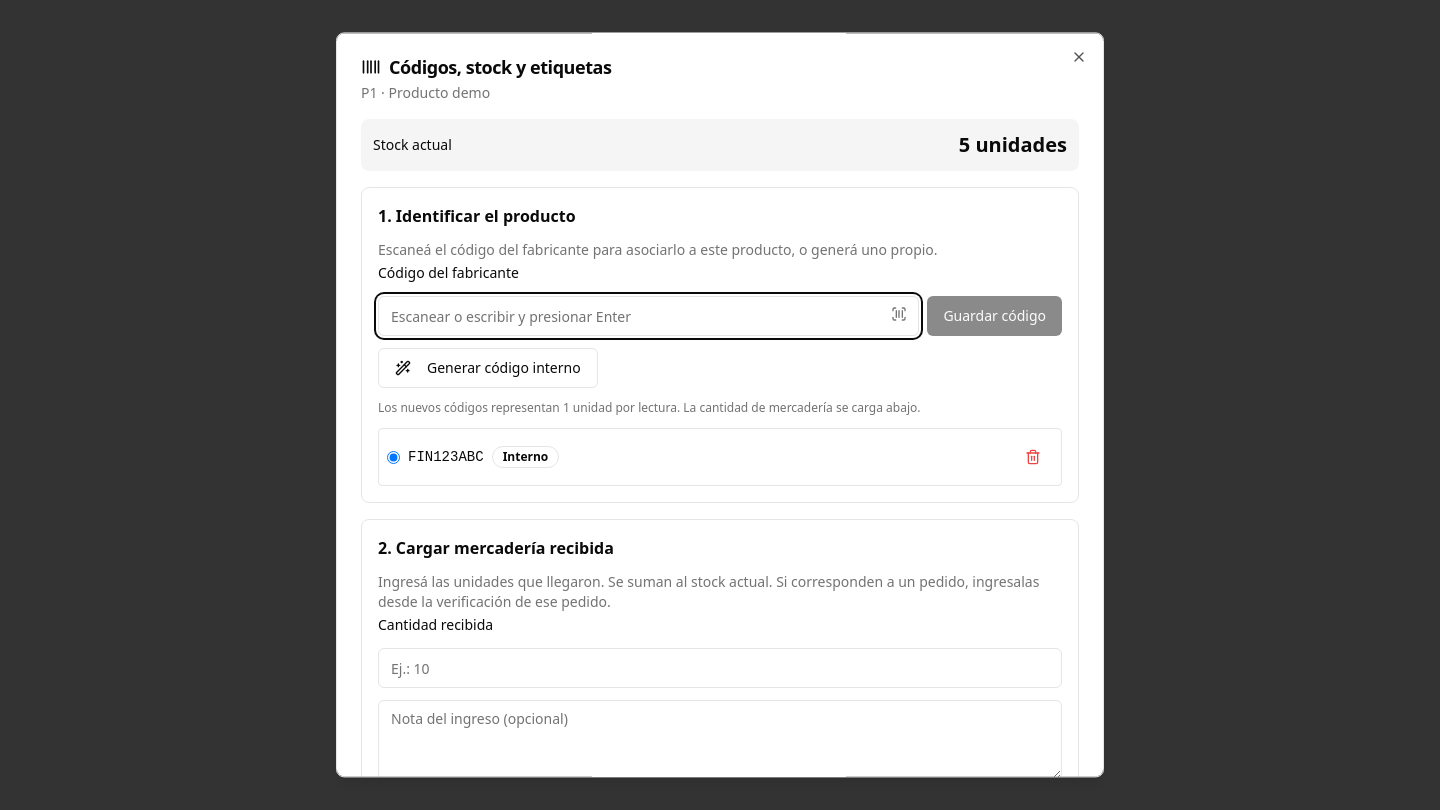
Test: rejects another product barcode without allowing a stock receipt for the unsaved code
expect the text "FIN123ABC" is shown: met, box x1=408 y1=447 x2=484 y2=467
Type "OTHER" into the field labelled "Código del fabricante". click: (649, 316)
box: x1=378 y1=296 x2=919 y2=336
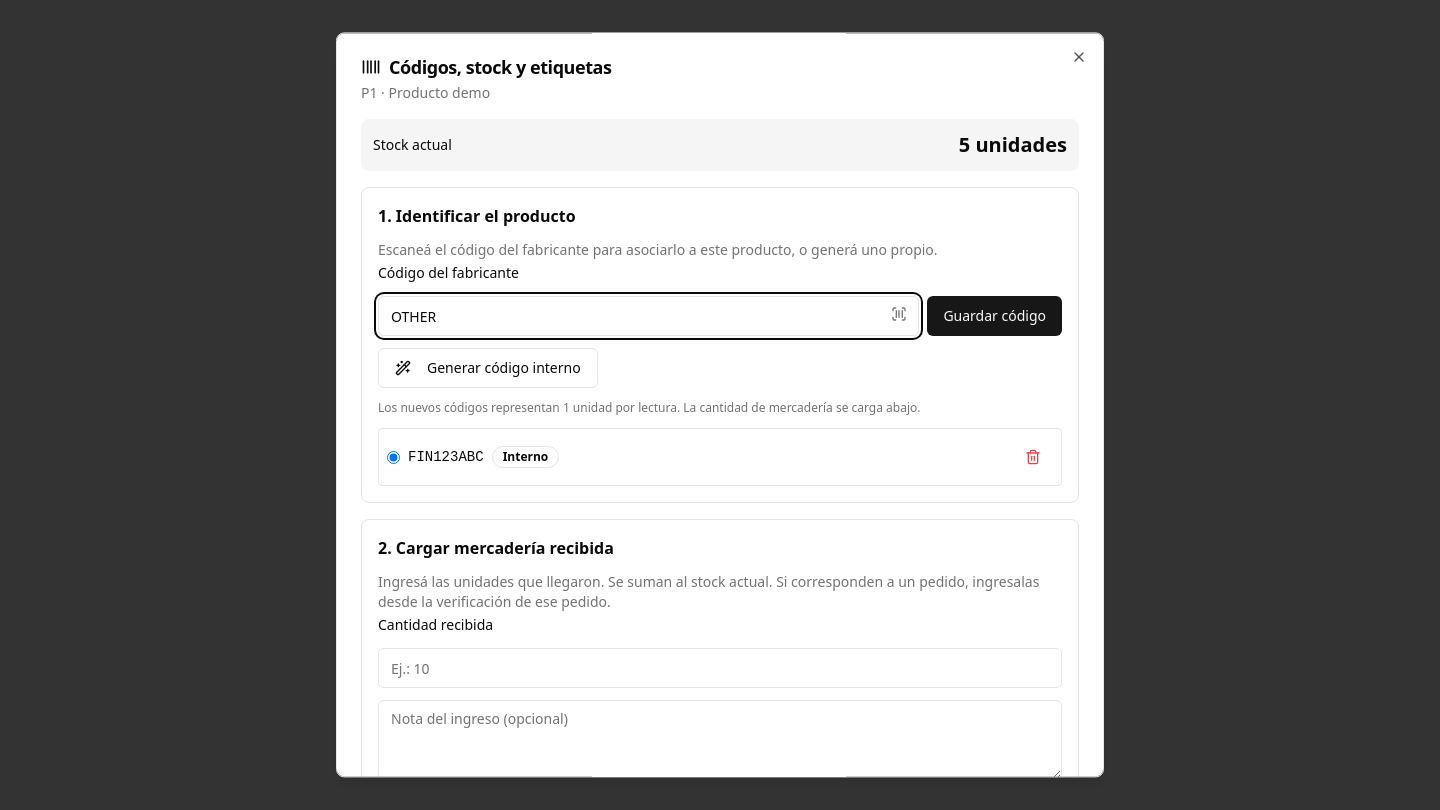
Click the button "Guardar código". click: (995, 316)
box: x1=927 y1=296 x2=1062 y2=336
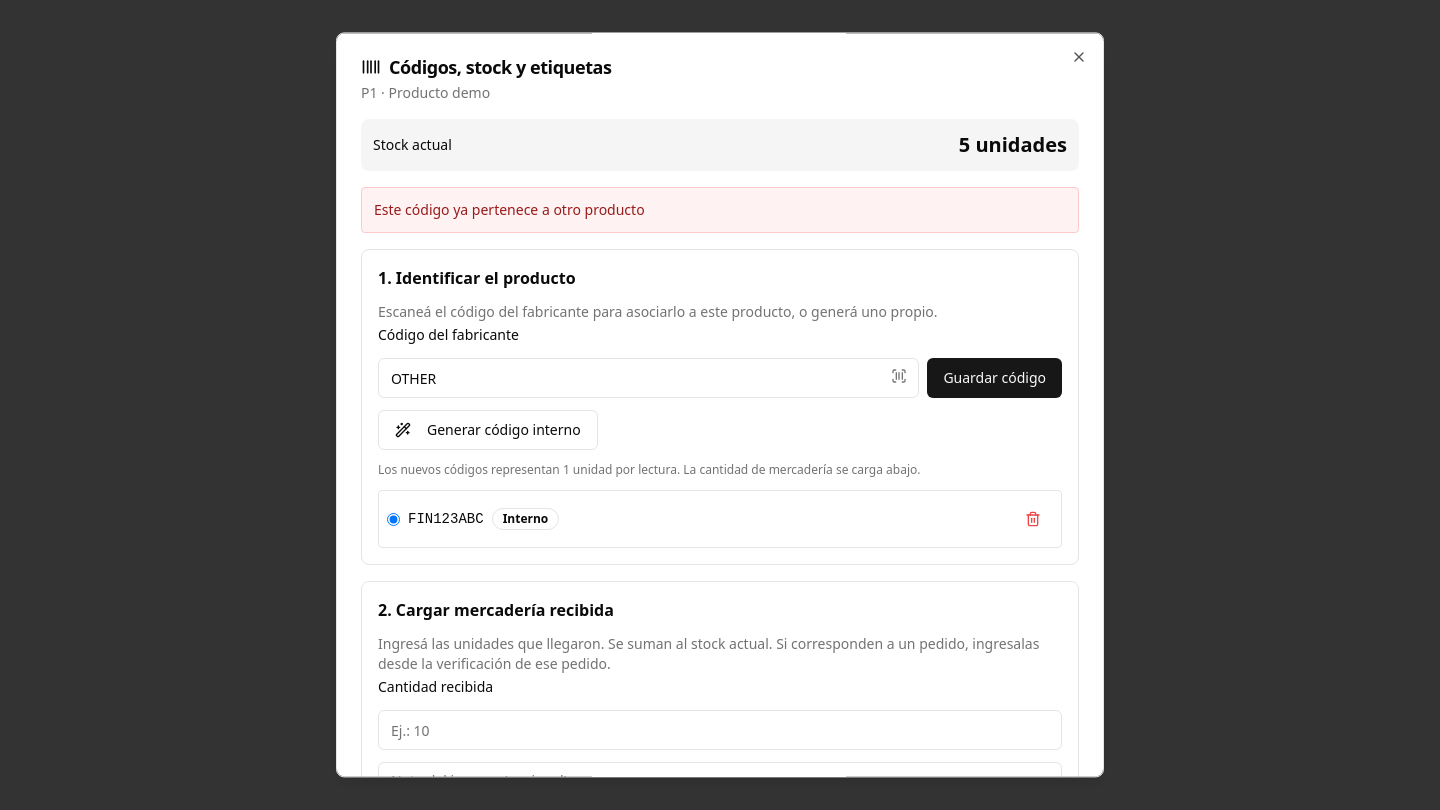
expect the text "Este código ya pertenece a otro producto" is shown: met, box x1=361 y1=187 x2=1079 y2=233
Type "3" into the number field labelled "Cantidad recibida". click: (720, 730)
box: x1=378 y1=710 x2=1062 y2=750
(page scrolled)
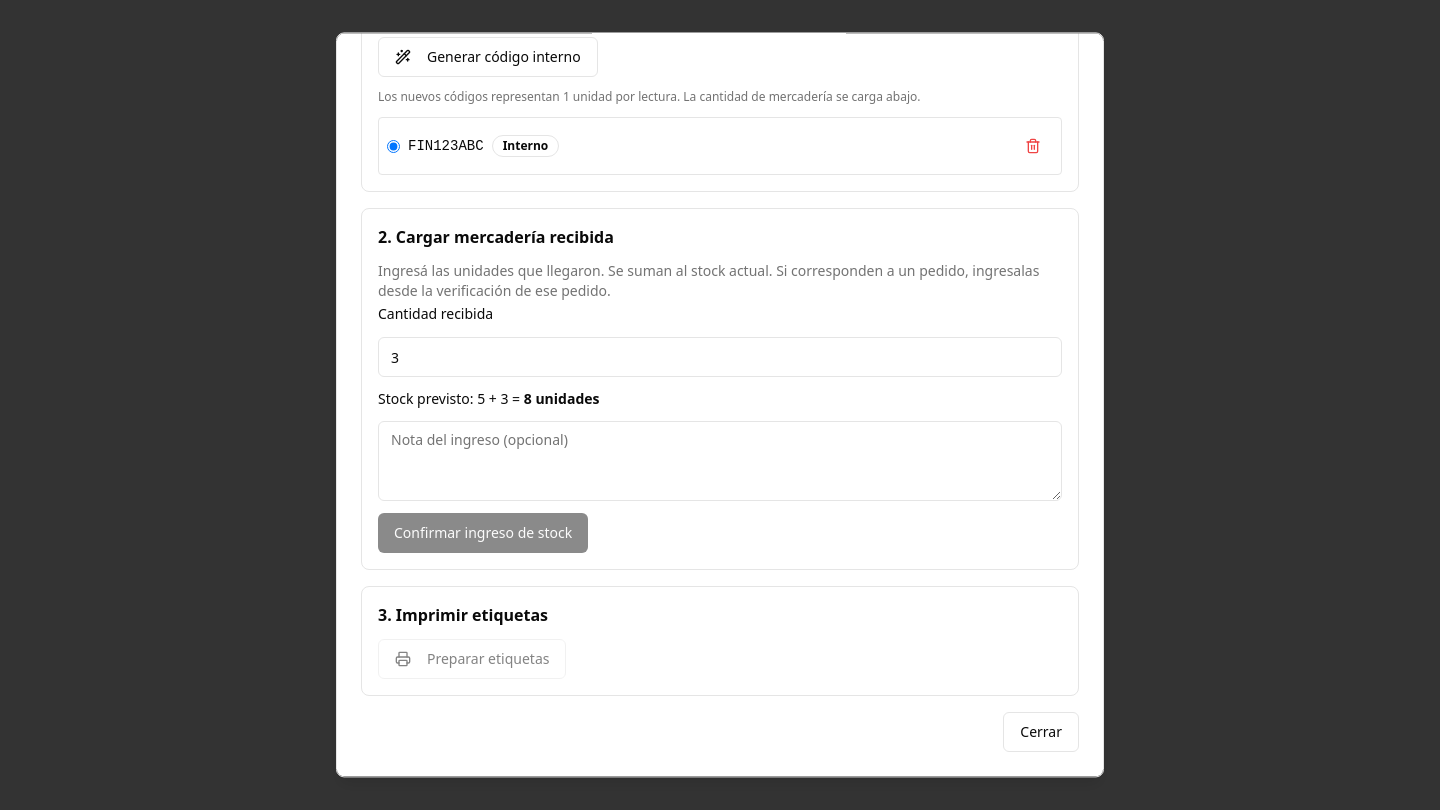
expect the button "Confirmar ingreso de stock" is disabled: met, box x1=378 y1=513 x2=588 y2=553
